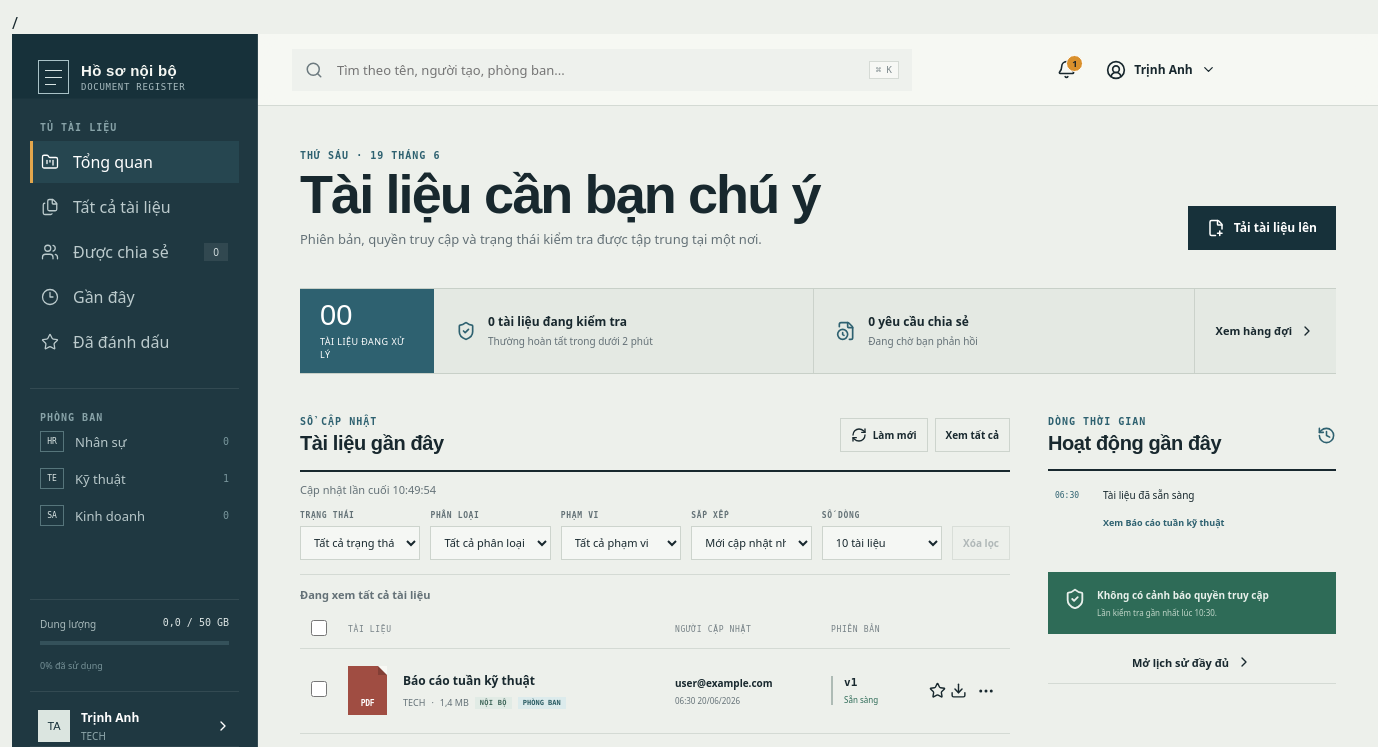
Scenario: App › hiển thị trạng thái rỗng khi chưa có tài liệu được chia sẻ
expect the button "Báo cáo tuần kỹ thuật" is shown: met, box [403,672,535,689]
Click the button "Được chia sẻ 0" at (134, 252), box [30,231,239,273]
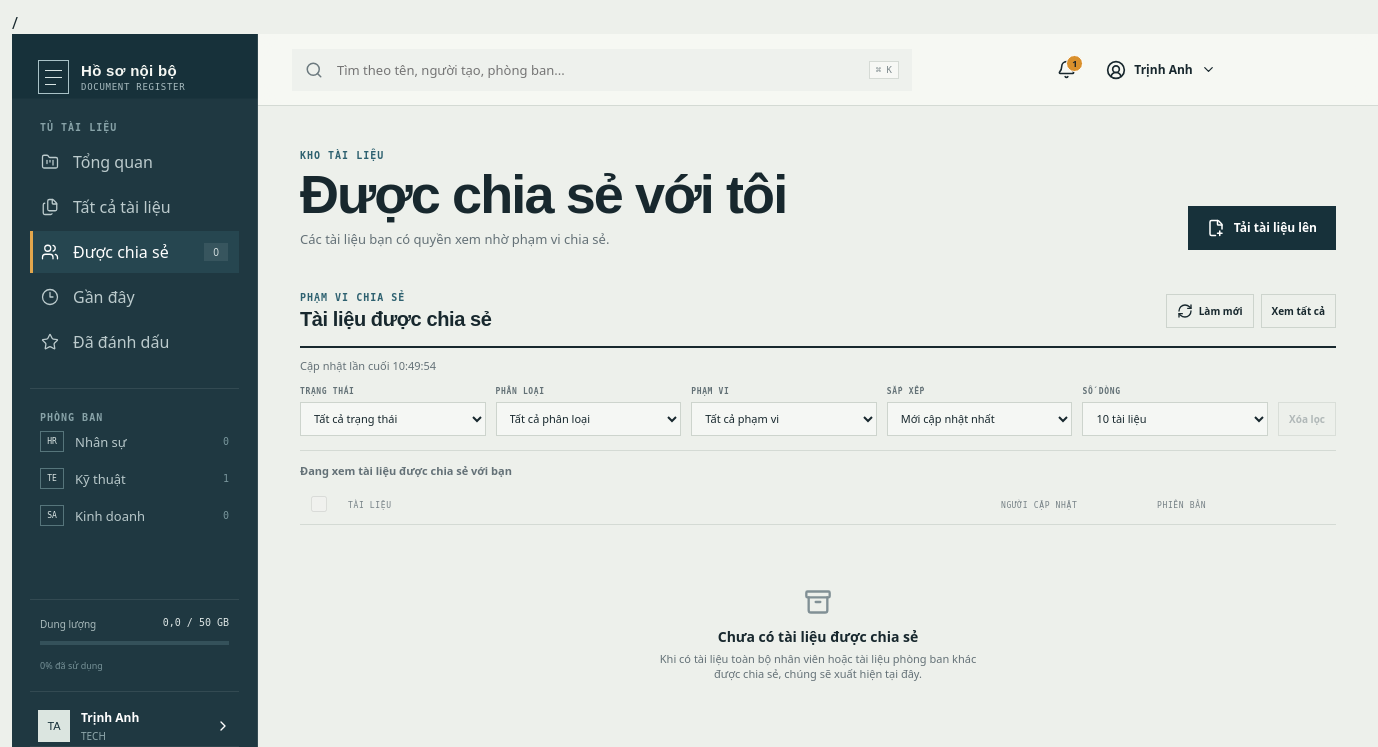
expect the heading "Chưa có tài liệu được chia sẻ" is shown: met, box [718,627,918,646]
expect the text "Khi có tài liệu toàn bộ nhân viên hoặc tài liệu phòng ban khác được chia sẻ, chúng sẽ xuất hiện tại đây." is shown: met, box [660,651,976,681]
